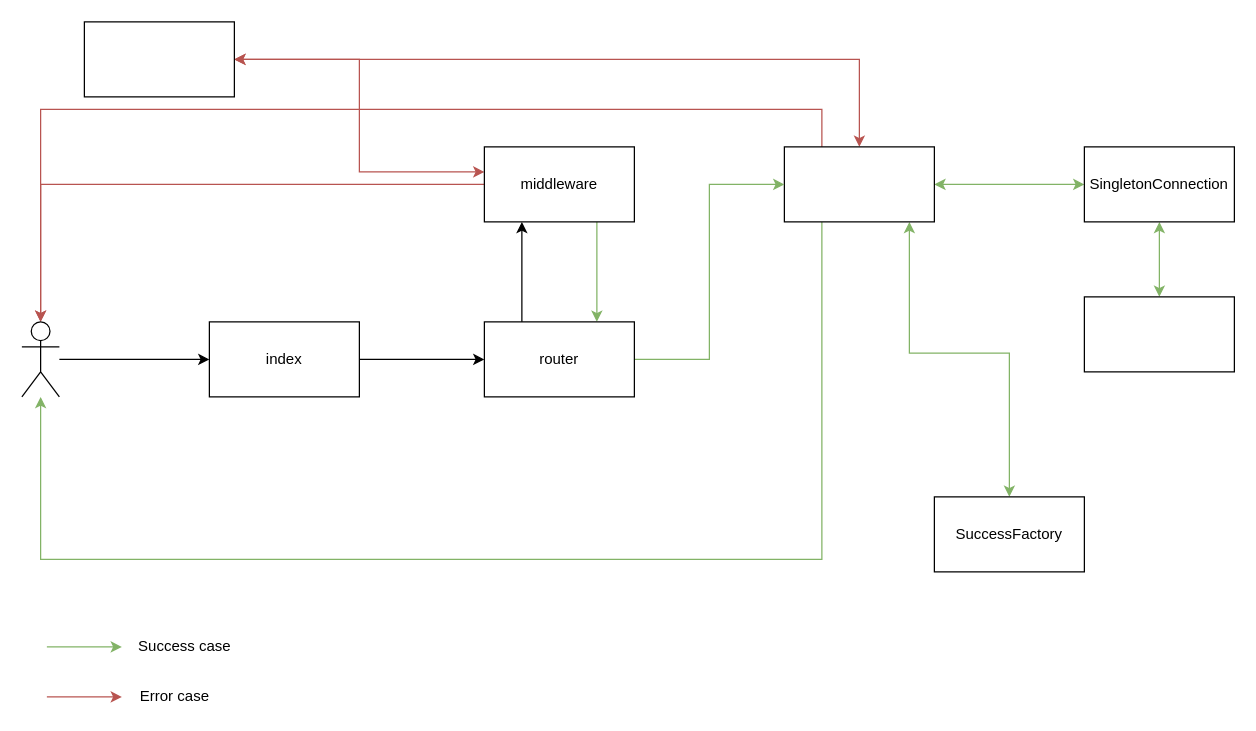
This 1256x731 diagram has some shape labels left out. The centre of each missing label's shape, as x and y in pixels:
"Controller" goes at pixel 858 184.
"ErrorFactory" goes at pixel 158 59.
"Model" goes at pixel 1158 334.
